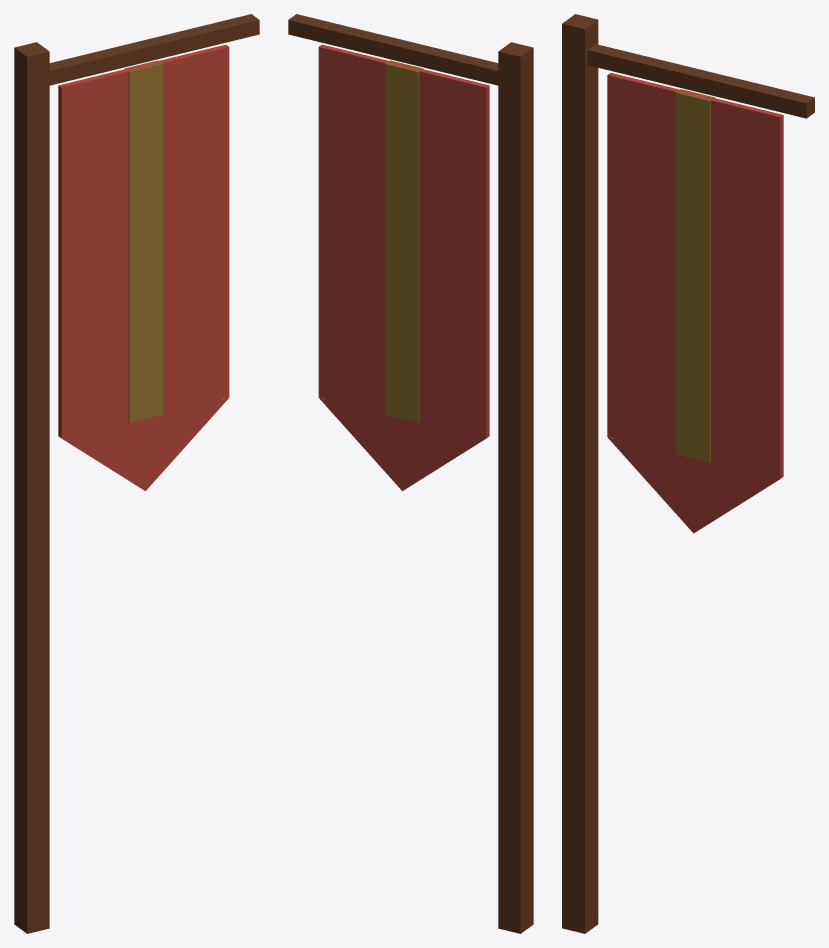
Rendered from banner.glb.
The picture shows the model from 3 angles, left to right: view 1: azimuth 30°, elevation 25°; view 2: azimuth 150°, elevation 25°; view 3: azimuth 330°, elevation 25°; orthographic projection. The views are drawn at different scales.
Visible parts, largest first — view 1: props/banner; view 2: props/banner; view 3: props/banner.
Boxes of the visible parts, x1=… form: props/banner: x1=14, y1=14, x2=259, y2=933; props/banner: x1=288, y1=14, x2=533, y2=933; props/banner: x1=562, y1=14, x2=814, y2=933.
Bounding box in the file's own units: 0.84 × 3 × 0.08.
